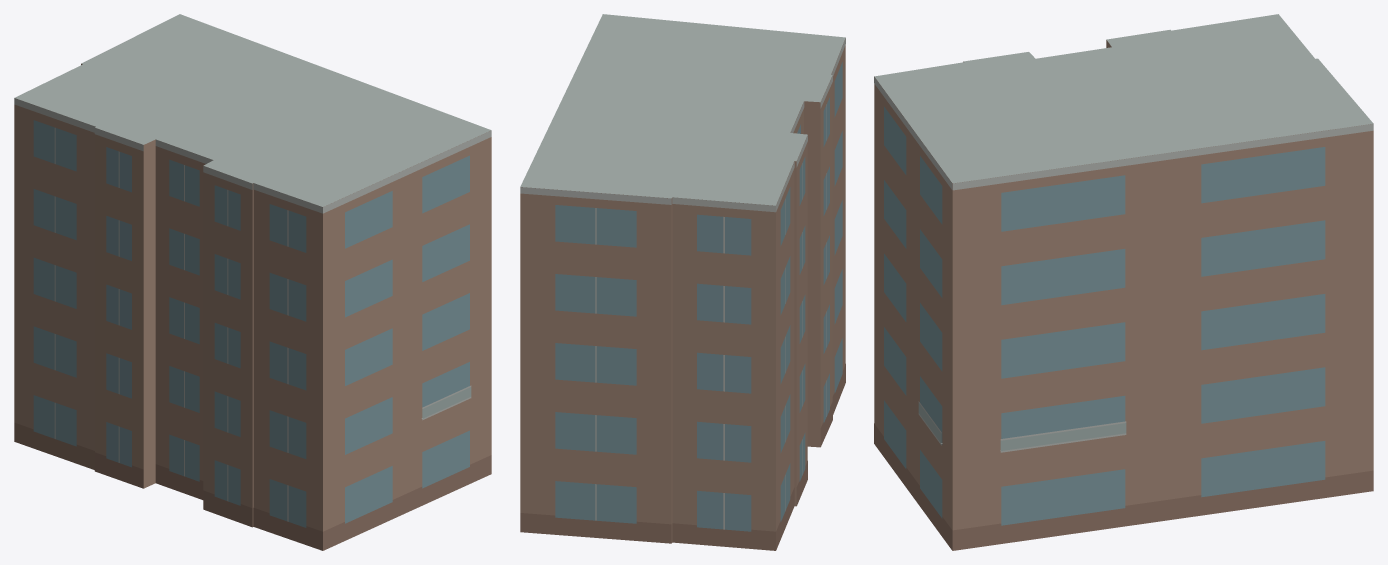
File: survey-upis-32740932.glb
3 renders of one model, left to right at view 1: azimuth 30°, elevation 25°; view 2: azimuth 150°, elevation 25°; view 3: azimuth 270°, elevation 25°, orthographic. The views are drawn at different scales.
Visible parts, largest first — view 1: survey-upis-32740932.tmp; view 2: survey-upis-32740932.tmp; view 3: survey-upis-32740932.tmp.
Part boxes in pixels (bbox=[...]): survey-upis-32740932.tmp: bbox=[14, 14, 491, 550]; survey-upis-32740932.tmp: bbox=[520, 14, 845, 550]; survey-upis-32740932.tmp: bbox=[874, 14, 1373, 550].
Bounding box in the file's own units: 12.67 × 12.8 × 15.78.
